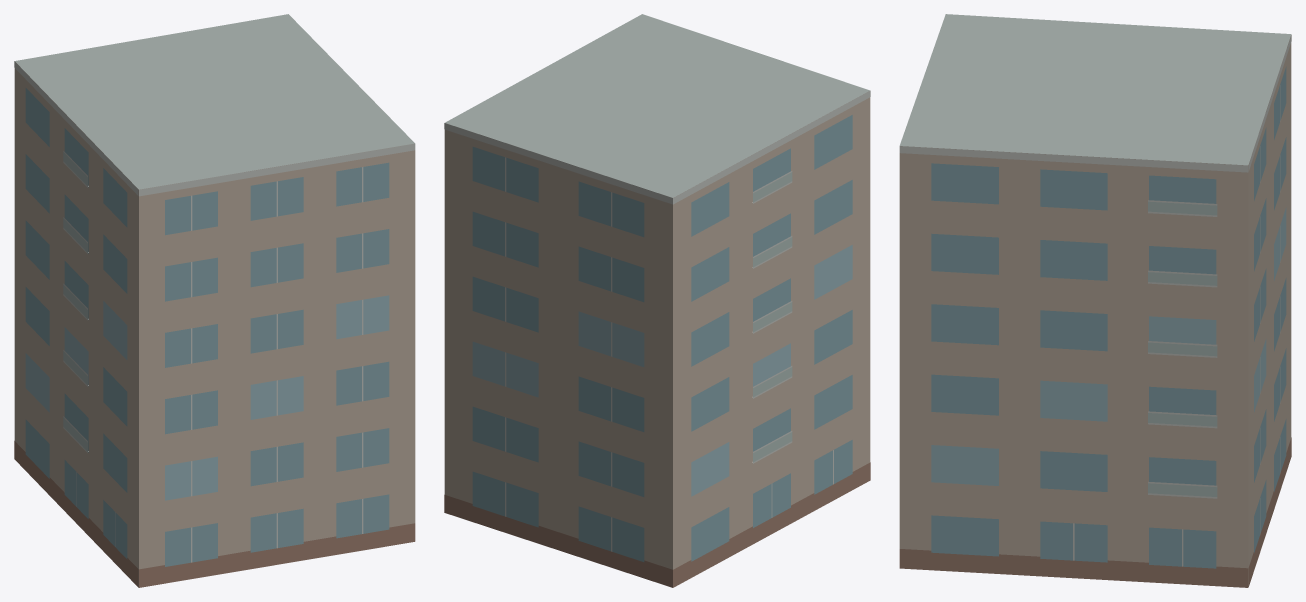
The model's file is survey-upis-32901103.glb.
3 views of the same model, side by side, from view 1: azimuth 30°, elevation 25°; view 2: azimuth 150°, elevation 25°; view 3: azimuth 270°, elevation 25° (orthographic). The views are drawn at different scales.
Parts seen in each view (by area): view 1: survey-upis-32901103.tmp; view 2: survey-upis-32901103.tmp; view 3: survey-upis-32901103.tmp.
Boxes of the visible parts, x1=… form: survey-upis-32901103.tmp: x1=14, y1=14, x2=415, y2=587; survey-upis-32901103.tmp: x1=444, y1=14, x2=870, y2=587; survey-upis-32901103.tmp: x1=899, y1=14, x2=1291, y2=587.
Bounding box in the file's own units: 11.08 × 14.4 × 12.12.
